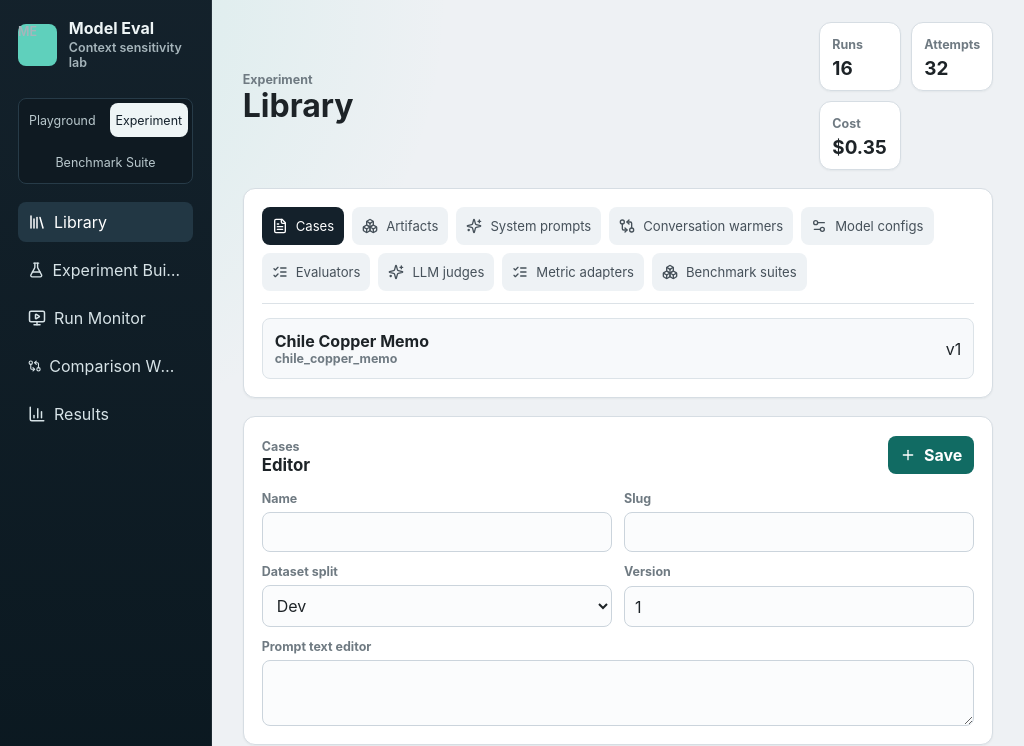
Scenario: App experiment builder › renders the full-factorial run preview from selected dimensions
Click the button "Experiment Builder".
click(106, 270)  # box [18,250,193,290]
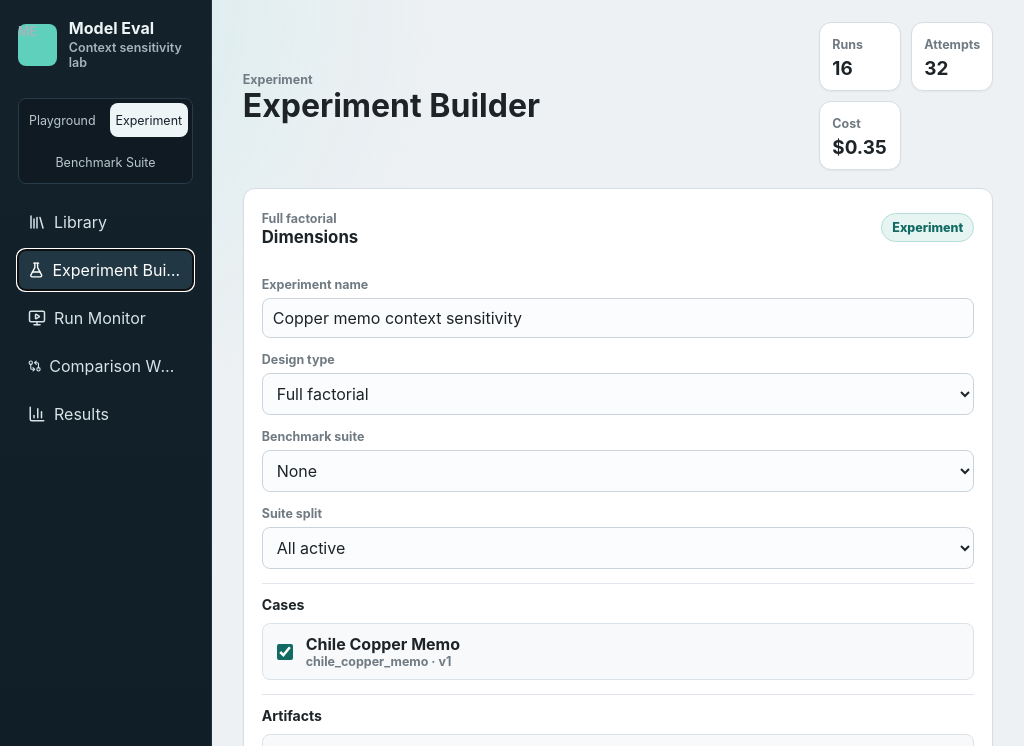
expect the text "16" is shown: met, box [832,57,853,80]
expect the dropdown labelled "Design type" shows "Full factorial": met, box [262,373,974,415]
